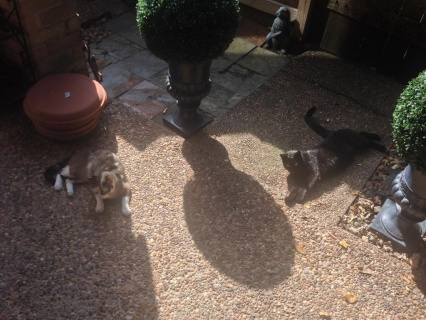Cat: (276, 101, 391, 202), (42, 142, 132, 219)
